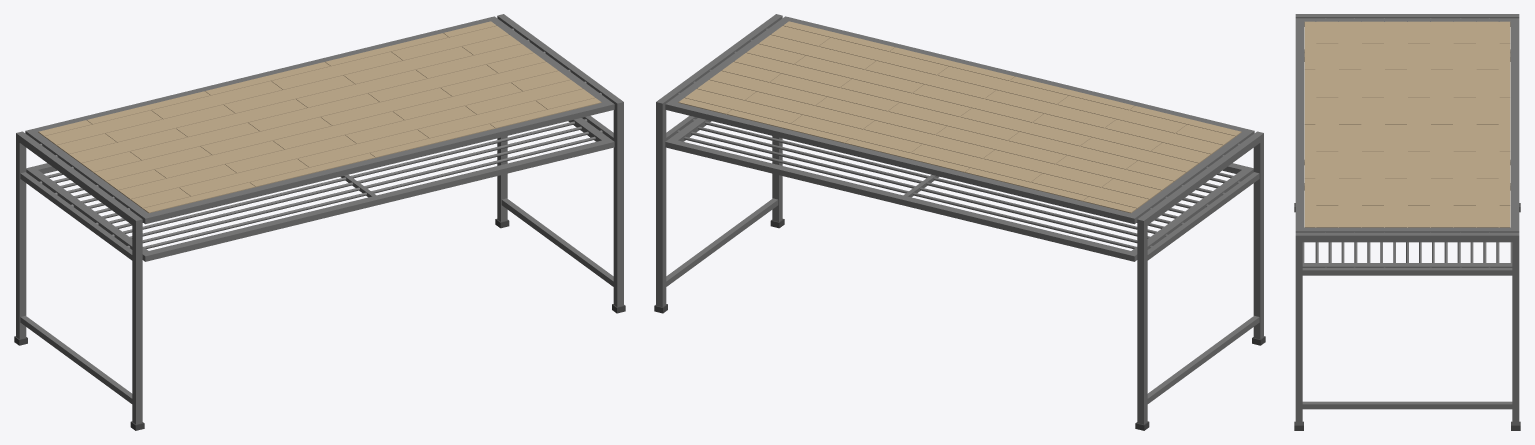
Rendered from 599_ダイニングテーブル6人掛け.glb.
3 renders of one model, left to right at view 1: azimuth 30°, elevation 25°; view 2: azimuth 150°, elevation 25°; view 3: azimuth 270°, elevation 25°, orthographic. The views are drawn at different scales.
Visible parts, largest first — view 1: Body; view 2: Body; view 3: Body.
Part boxes in pixels (x1,y1,x2,y2): Body: [14, 14, 625, 430]; Body: [654, 14, 1265, 430]; Body: [1294, 14, 1520, 430].
Size of the model in its own units: 1.84 by 0.752 by 0.789.
